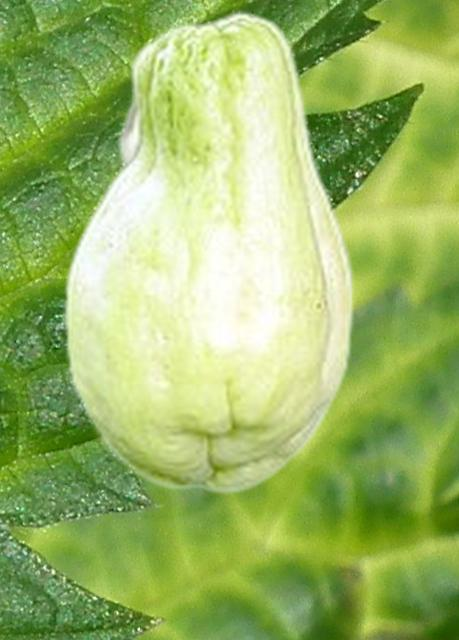sayote: (62, 10, 353, 494)
